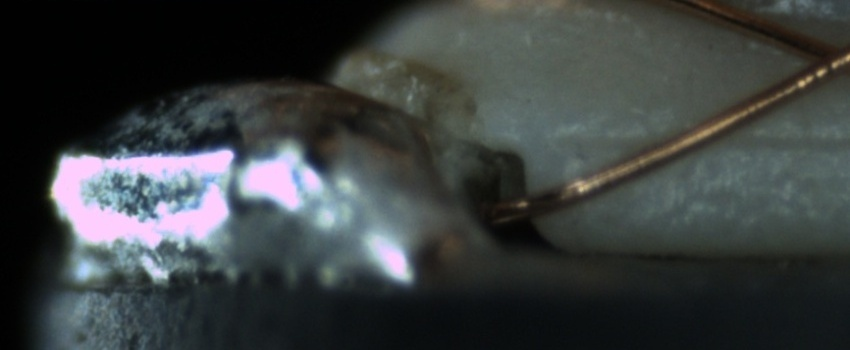CL: (778, 24, 849, 91)
DL: (571, 106, 850, 171)
